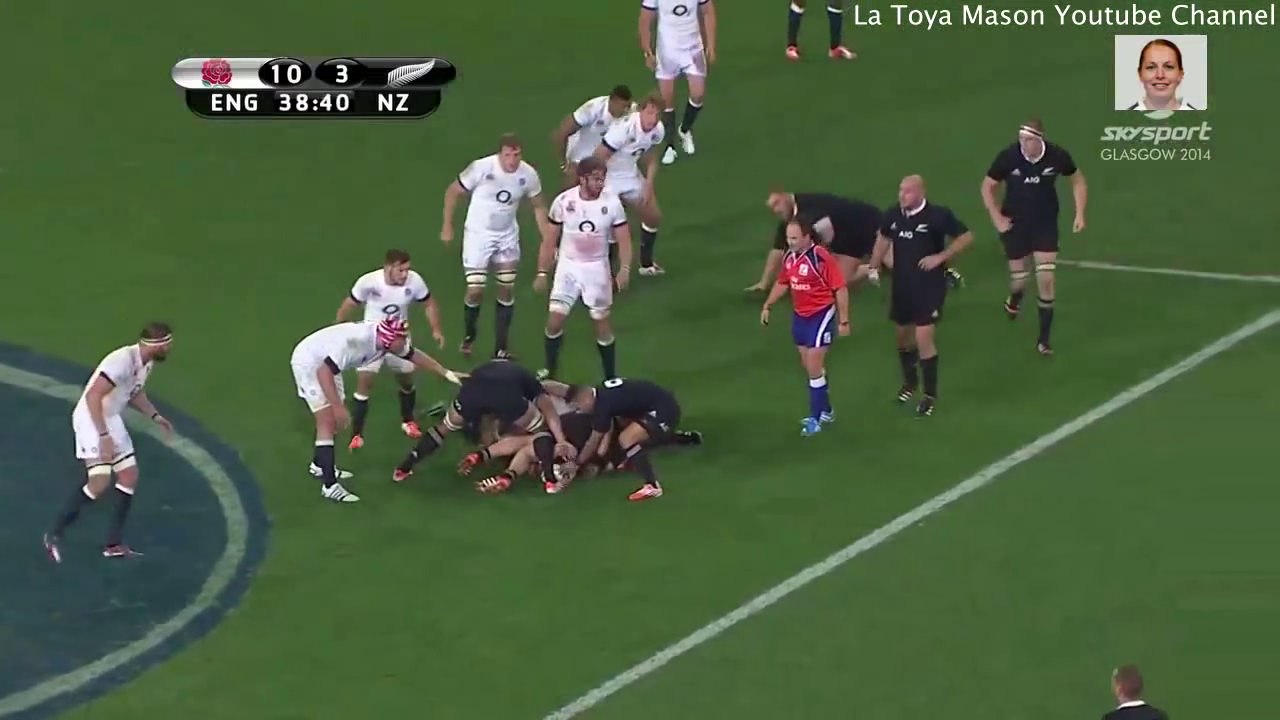player: (32, 316, 186, 567), (272, 313, 477, 496), (977, 111, 1091, 362), (869, 169, 976, 422), (331, 248, 453, 456), (752, 212, 860, 444), (383, 347, 565, 484), (527, 152, 633, 387), (435, 128, 533, 361), (585, 91, 676, 286), (741, 181, 881, 301), (564, 369, 687, 504), (628, 1, 725, 162), (554, 76, 633, 179), (1087, 656, 1177, 720), (780, 1, 857, 64)
